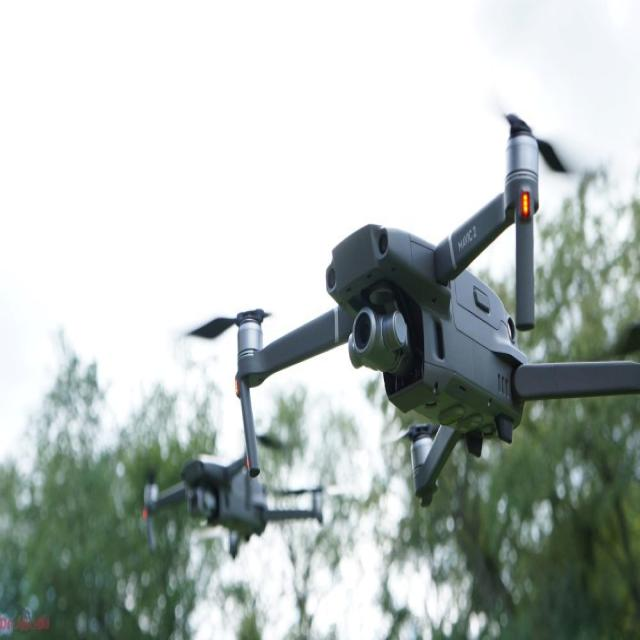drone: (191, 101, 640, 482)
